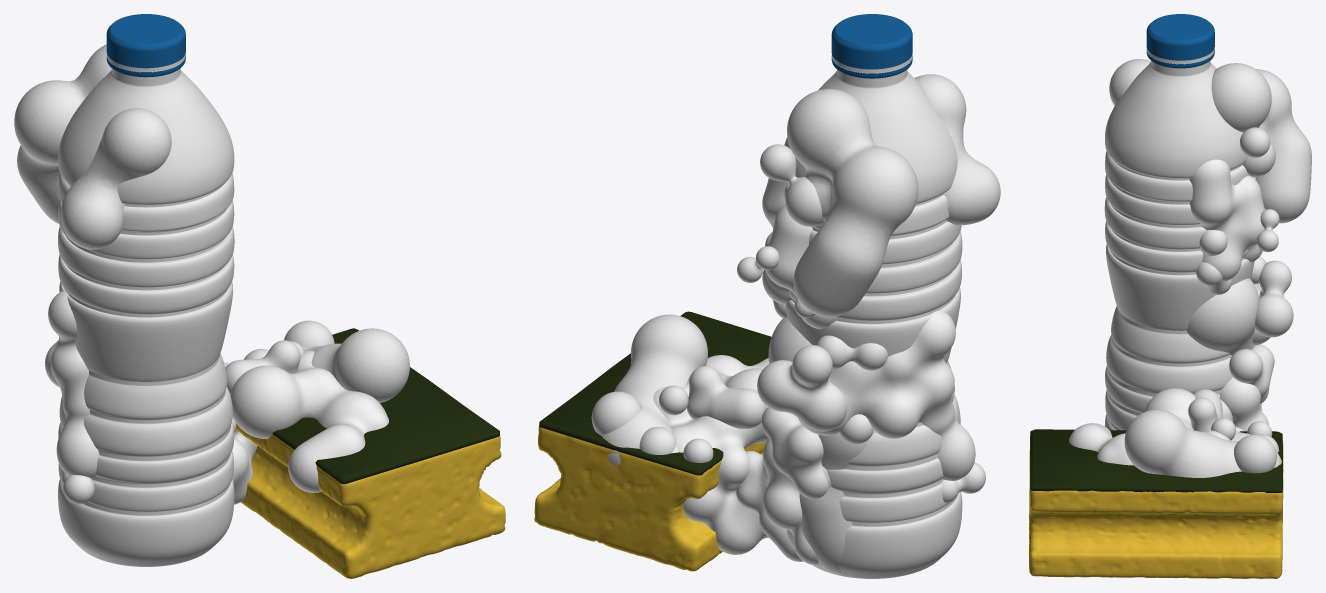
The model's file is cleaningPlastic4.fbx.
The picture shows the model from 3 angles, left to right: view 1: azimuth 30°, elevation 25°; view 2: azimuth 150°, elevation 25°; view 3: azimuth 270°, elevation 25°; orthographic projection. The views are drawn at different scales.
Visible parts, largest first — view 1: Plastic bottle, Sponge, Mball.019, Mball.039, Mball.021, Mball.017; view 2: Plastic bottle, Mball.019, Mball.039, Sponge, Mball.017, Mball.021; view 3: Plastic bottle, Sponge, Mball.019, Mball.039, Mball.021, Mball.017.
Part boxes in pixels (<box>): Plastic bottle: <box>58,14,234,566</box>; Sponge: <box>235,328,505,578</box>; Mball.019: <box>14,44,409,402</box>; Mball.039: <box>45,290,388,504</box>; Mball.021: <box>62,320,334,504</box>; Mball.017: <box>225,340,300,432</box>; Plastic bottle: <box>784,14,962,578</box>; Mball.019: <box>601,74,1000,574</box>; Mball.039: <box>653,178,975,565</box>; Sponge: <box>534,311,771,571</box>; Mball.017: <box>687,345,847,561</box>; Mball.021: <box>591,144,985,503</box>; Plastic bottle: <box>1104,14,1255,430</box>; Sponge: <box>1029,429,1283,578</box>; Mball.019: <box>1109,59,1311,477</box>; Mball.039: <box>1069,159,1270,465</box>; Mball.021: <box>1196,127,1279,473</box>; Mball.017: <box>1188,260,1293,431</box>.
Size of the model in its own units: 90.1 by 119 by 68.34.
